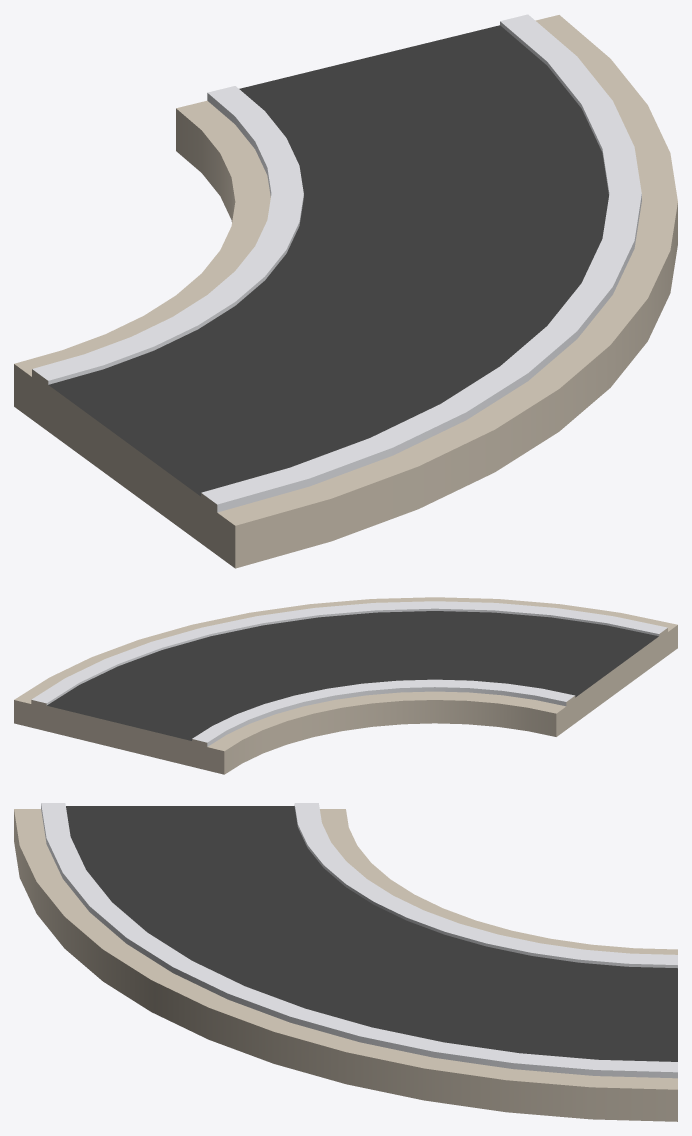
Rendered from roadCornerBridgeLarge.obj.
The picture shows the model from 3 angles, top to bottom: view 1: azimuth 30°, elevation 25°; view 2: azimuth 150°, elevation 25°; view 3: azimuth 270°, elevation 25°; orthographic projection. The views are drawn at different scales.
Parts seen in each view (by area): view 1: roadCornerBridgeLarge; view 2: roadCornerBridgeLarge; view 3: roadCornerBridgeLarge.
Boxes of the visible parts, bbox=[...] form: roadCornerBridgeLarge: bbox=[14, 14, 677, 568]; roadCornerBridgeLarge: bbox=[14, 597, 677, 774]; roadCornerBridgeLarge: bbox=[14, 803, 677, 1121].
Size of the model in its own units: 2 by 0.1266 by 2.
